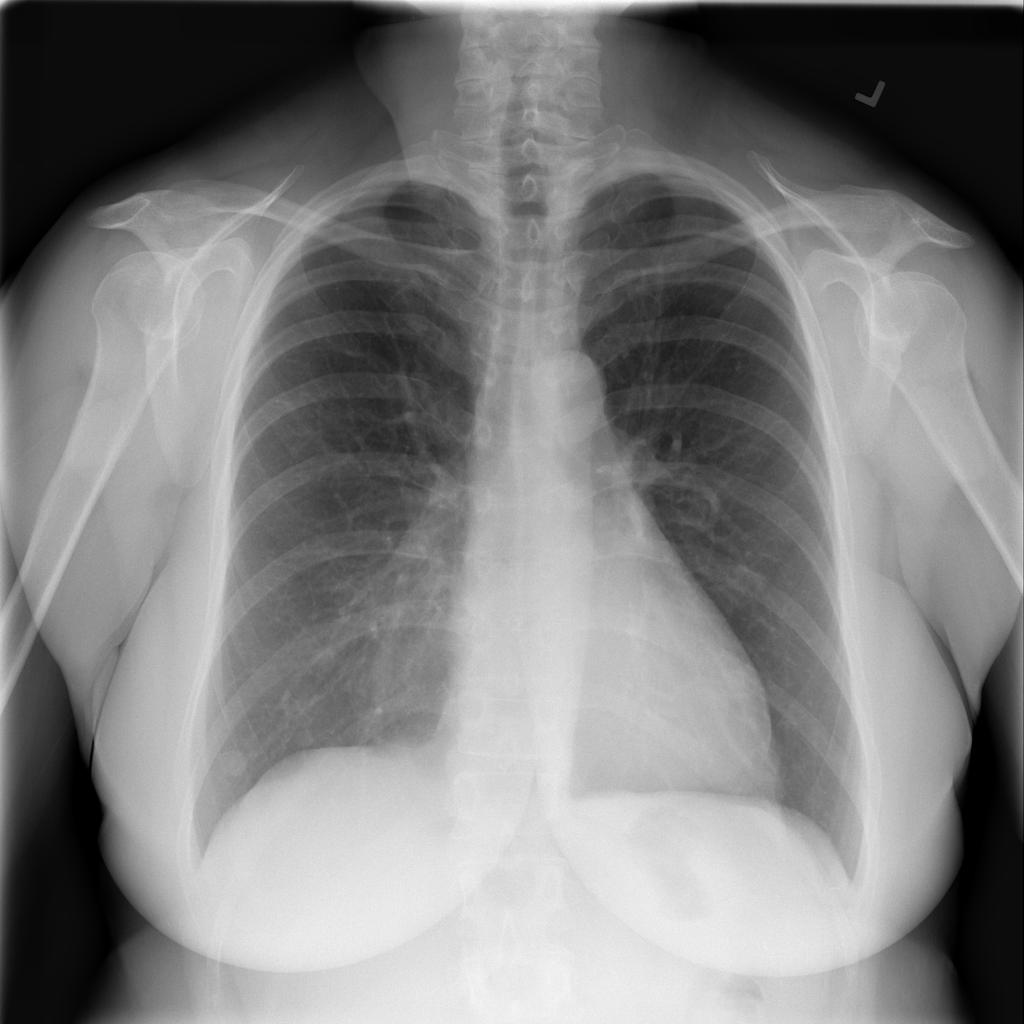nodule: (210, 734, 260, 786)
